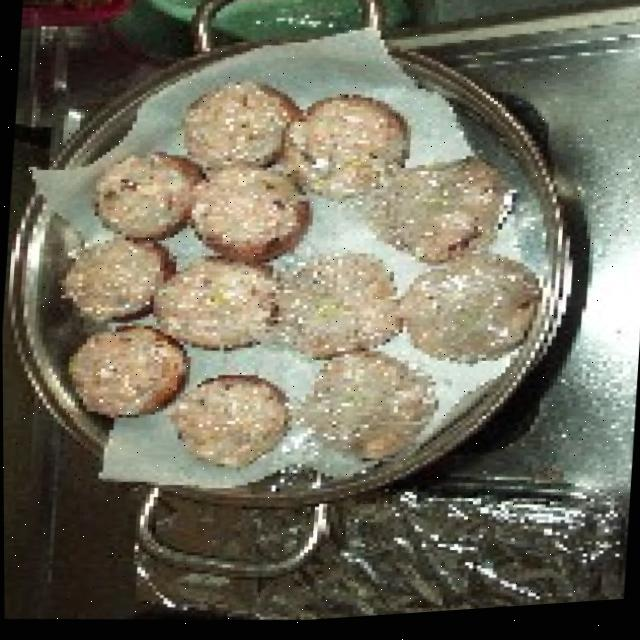带馅早点: (59, 65, 520, 490)
